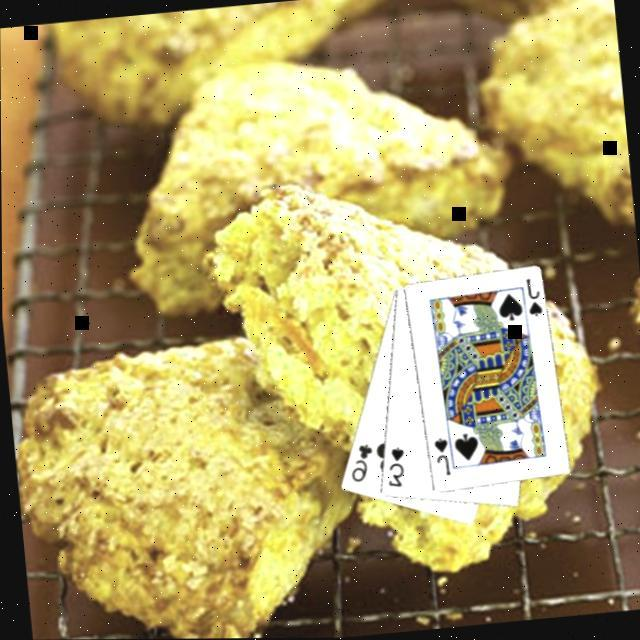3S: (381, 442, 408, 489)
9C: (344, 438, 377, 484)
JS: (429, 432, 453, 478), (522, 274, 544, 318)
